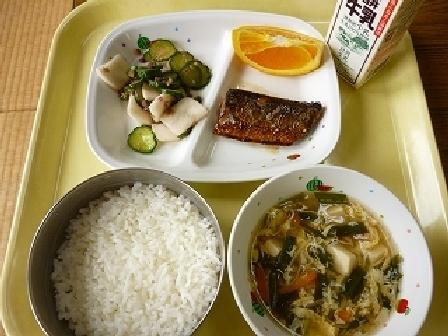Citrus: (219, 10, 332, 90)
Fish: (213, 80, 332, 157)
Milk: (323, 0, 429, 86)
Rice: (43, 183, 215, 335)
Soups: (227, 177, 421, 330)
salad with sauce: (98, 30, 210, 158)
